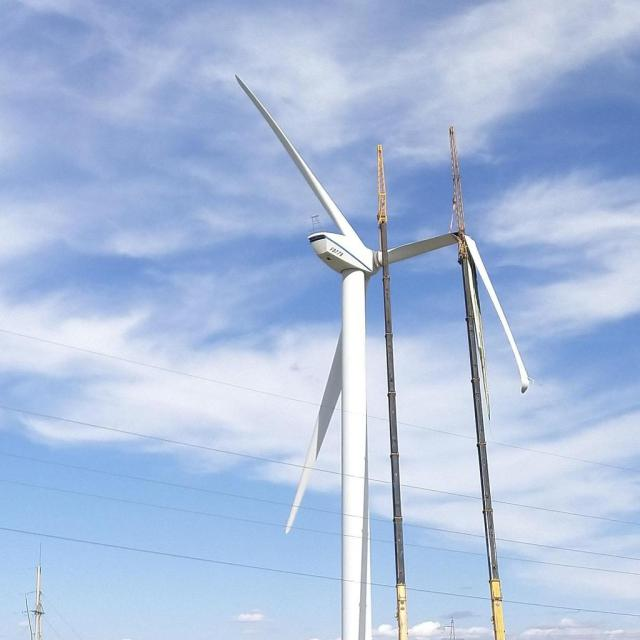crack: (443, 222, 539, 399)
